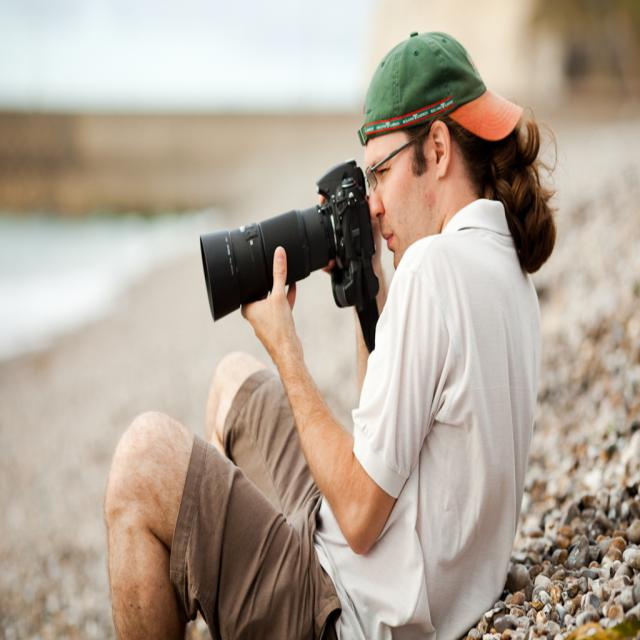Hat: (357, 26, 524, 143)
